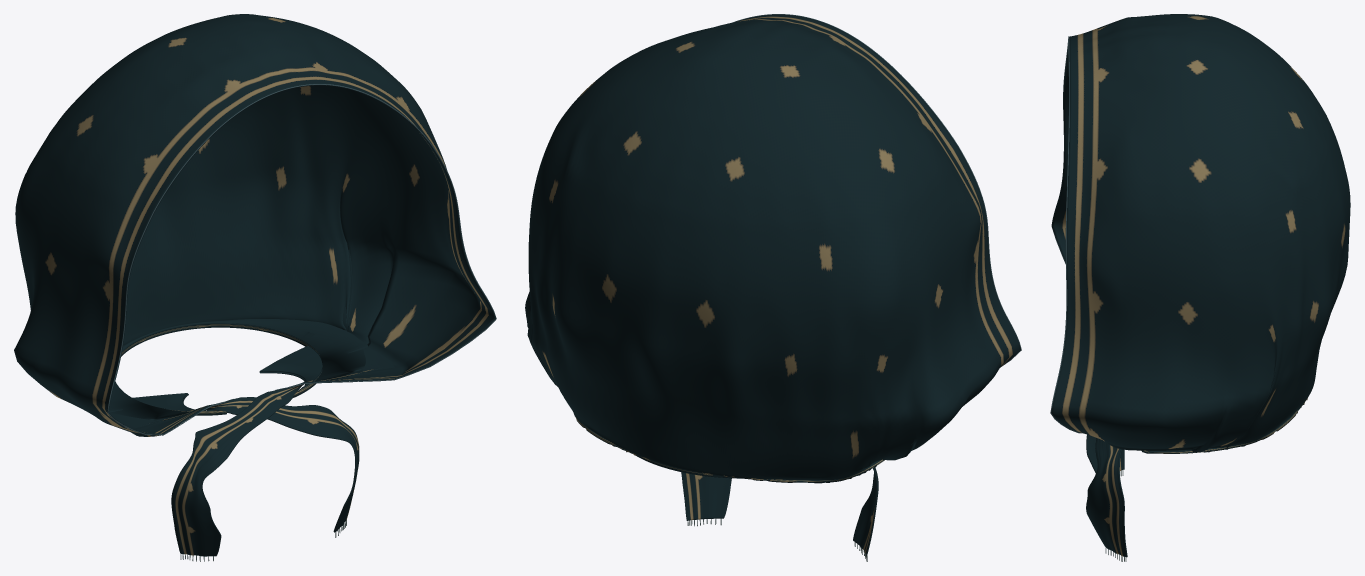
File: Feminine-side-sweep-tank-pashmina249-headgear.glb
3 renders of one model, left to right at view 1: azimuth 30°, elevation 25°; view 2: azimuth 150°, elevation 25°; view 3: azimuth 270°, elevation 25°, orthographic. The views are drawn at different scales.
Visible parts, largest first — view 1: 226 headgear / Headwear / continuous woven pashmina239, 226 headgear / Headwear / face edge239; view 2: 226 headgear / Headwear / continuous woven pashmina239, 226 headgear / Headwear / face edge239; view 3: 226 headgear / Headwear / continuous woven pashmina239, 226 headgear / Headwear / face edge239.
Part boxes in pixels (bbox=[...]): 226 headgear / Headwear / continuous woven pashmina239: bbox=[14, 14, 495, 556]; 226 headgear / Headwear / face edge239: bbox=[107, 84, 496, 435]; 226 headgear / Headwear / continuous woven pashmina239: bbox=[525, 14, 1020, 555]; 226 headgear / Headwear / face edge239: bbox=[732, 14, 1021, 366]; 226 headgear / Headwear / continuous woven pashmina239: bbox=[1051, 14, 1350, 557]; 226 headgear / Headwear / face edge239: bbox=[1050, 36, 1081, 433].
Bounding box in the file's own units: 1.23 × 1.41 × 0.7787.
Materials: 3 (1 with a texture image).
